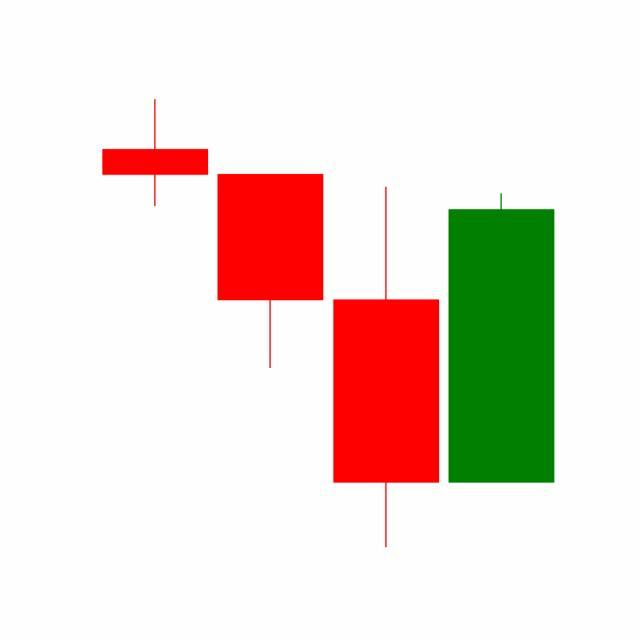Marubozu: (444, 190, 560, 486)
